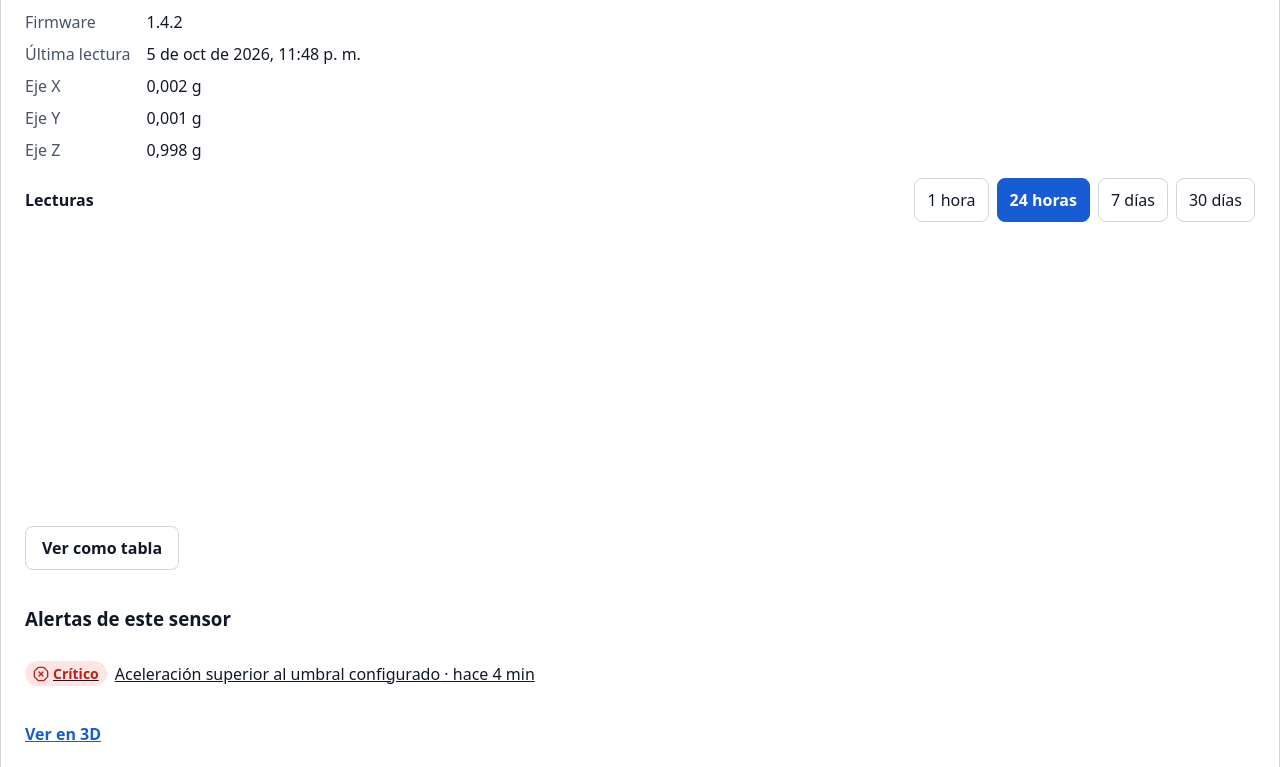
Test: SensorDetailPanel › muestra datos, estado, alertas y la serie con alternativa en tabla
(page scrolled)
Click the button "Ver como tabla" at (102, 548), box 25,526 -> 179,570
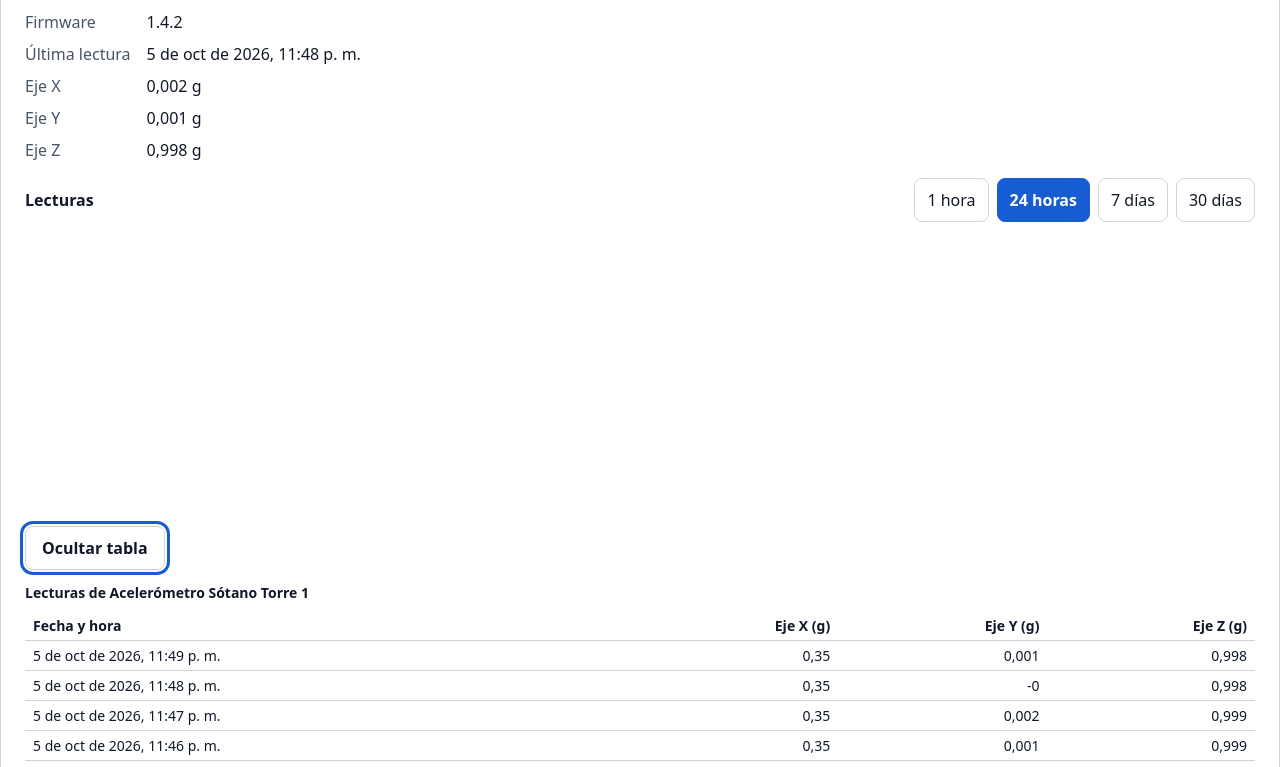
Expected: the column headings read "Fecha y hora", "Eje X (g)", "Eje Y (g)", "Eje Z (g)", in this order, 25,611 -> 627,640; 627,611 -> 838,640; 838,611 -> 1048,640; 1048,611 -> 1255,640
